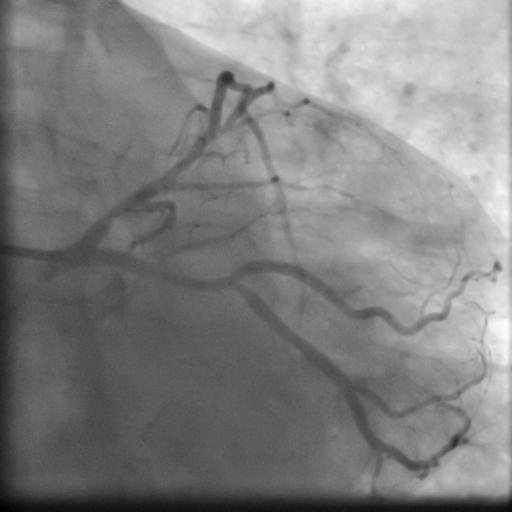Stenosis: (93, 201, 138, 228)
